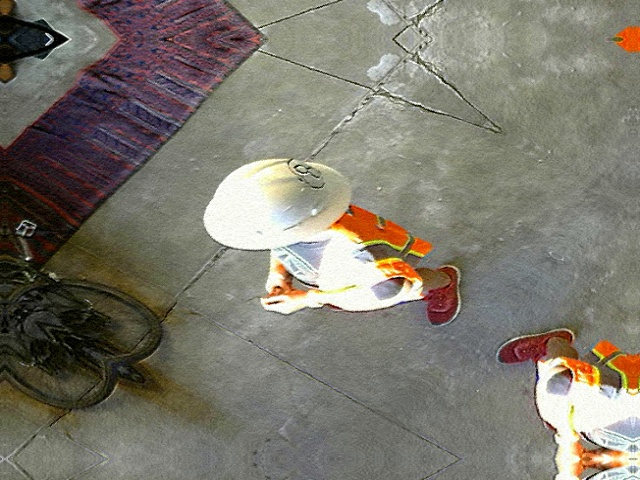eight: (277, 154, 333, 192)
